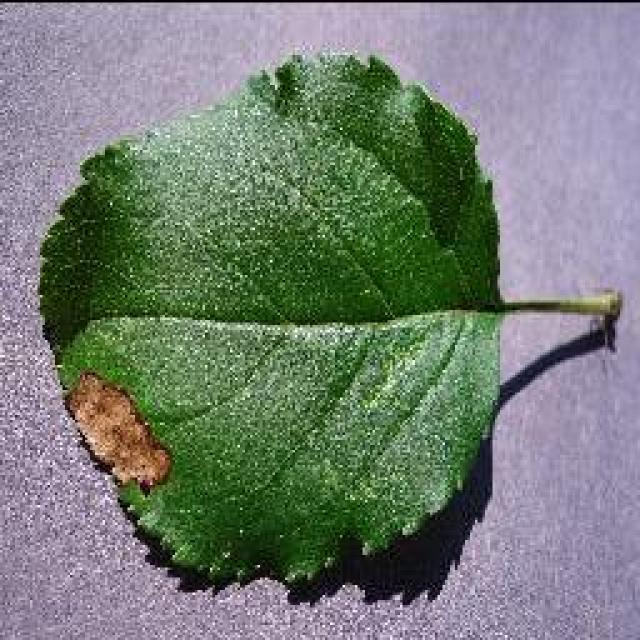apple black rot: (32, 48, 620, 598)
